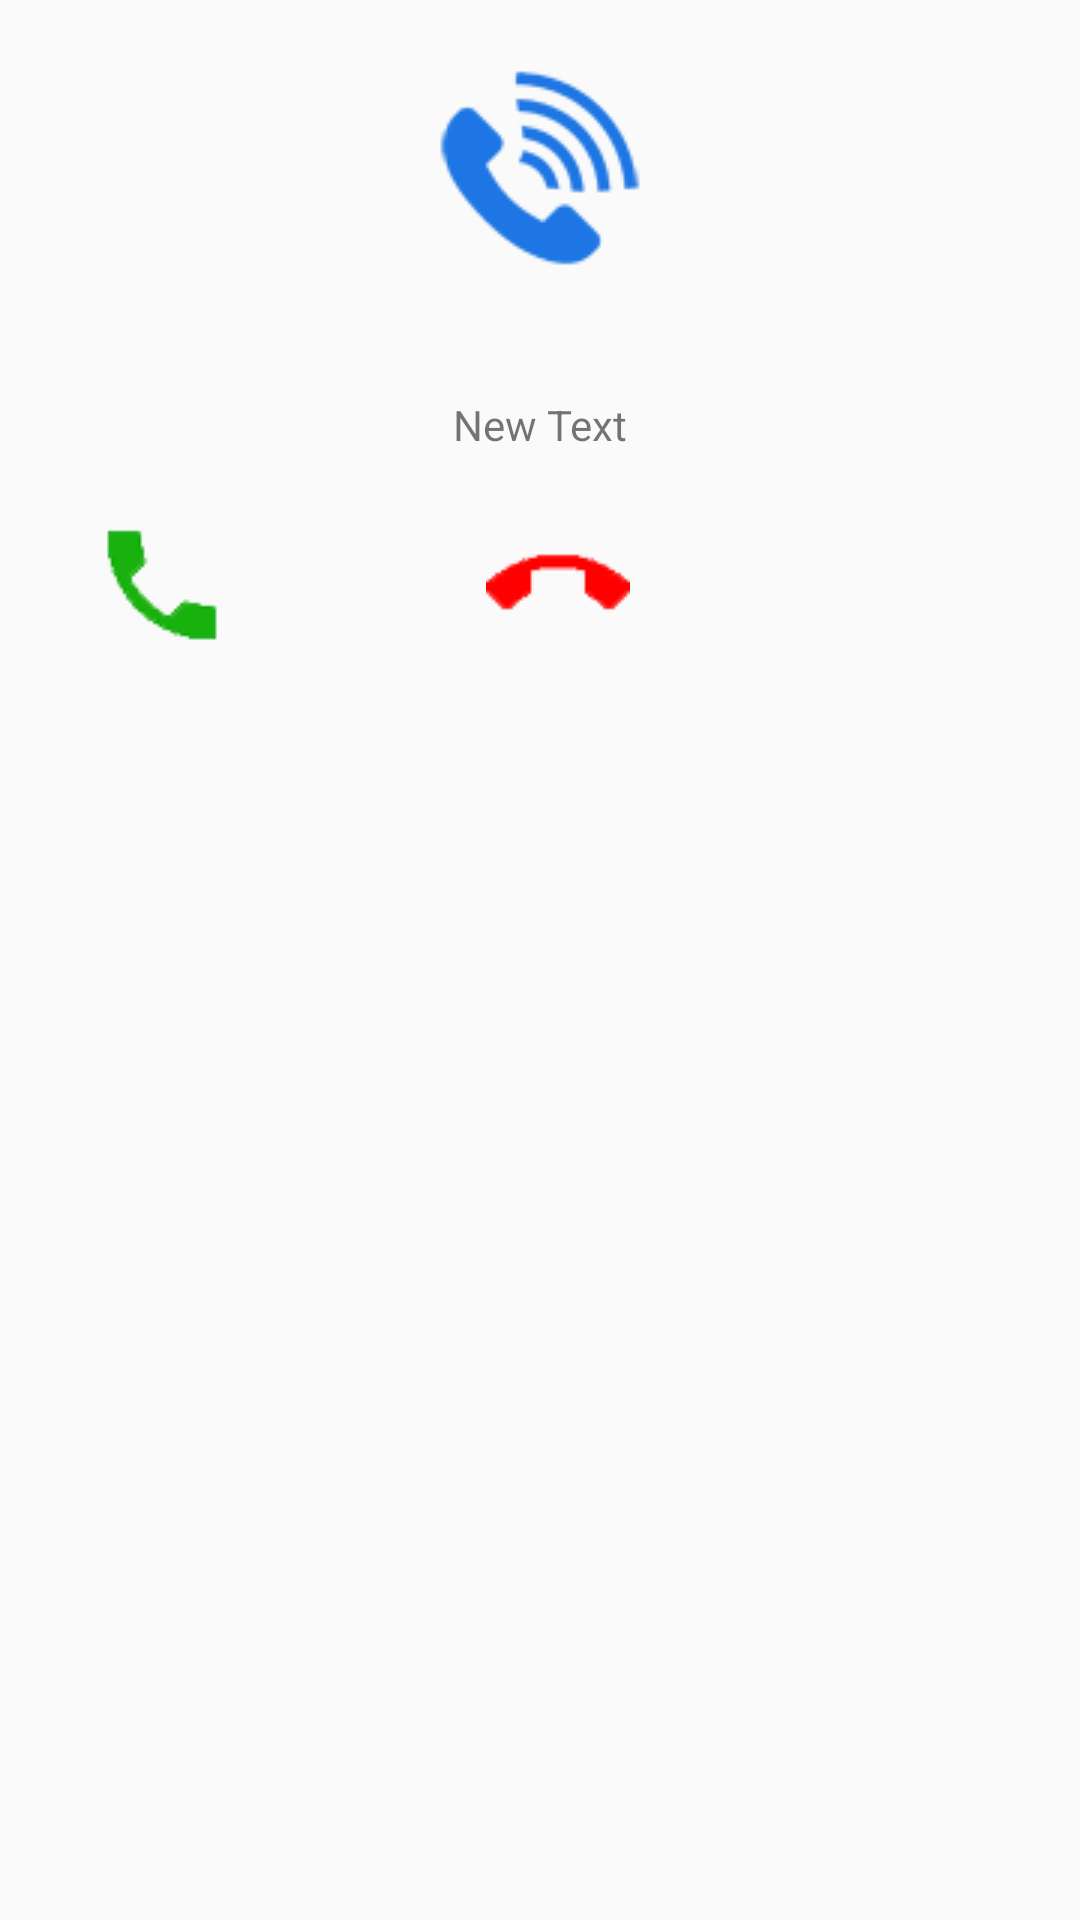

Icons on this 1080px×1920px Android screen, each with the point to tap as (x=x, y=y):
call: (x=162, y=585)
call end: (x=558, y=582)
calling: (x=540, y=168)
